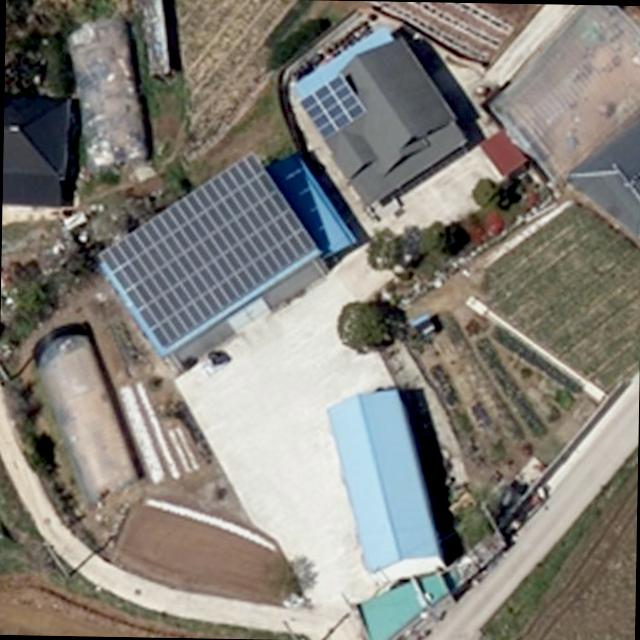solar: (94, 148, 327, 358), (296, 72, 363, 140)
